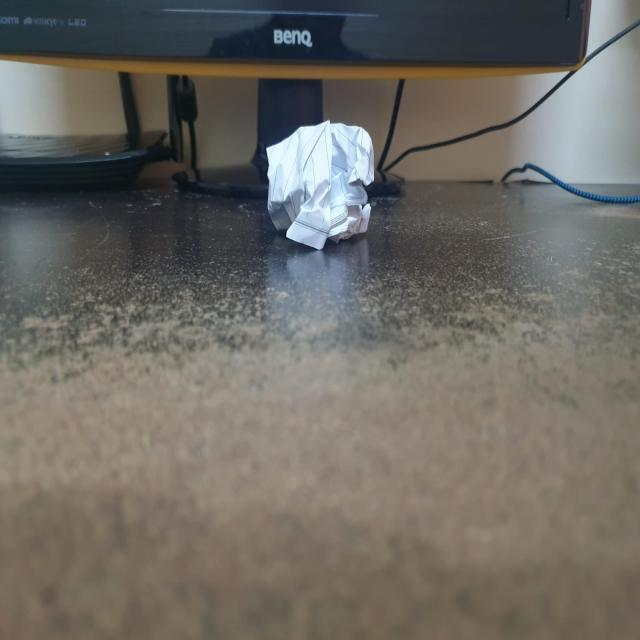Paper: (262, 118, 379, 254)
